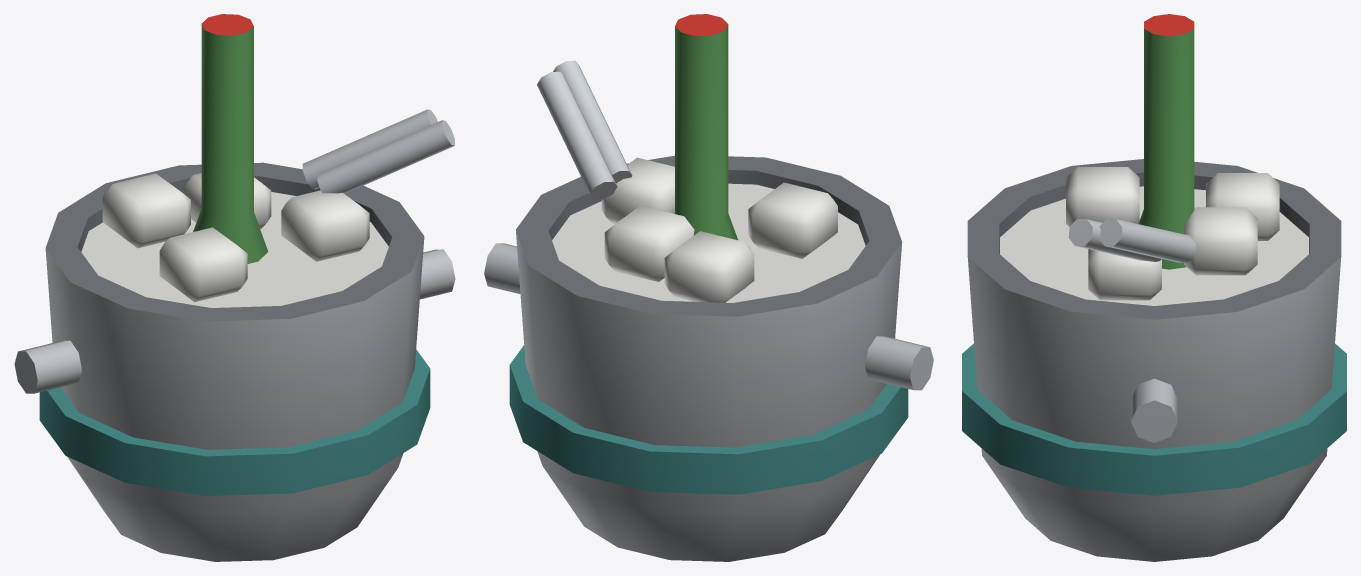
File: SM_IceBucket_01.glb
3 views of the same model, side by side, from view 1: azimuth 30°, elevation 25°; view 2: azimuth 150°, elevation 25°; view 3: azimuth 270°, elevation 25° (orthographic).
Parts seen in each view (by area): view 1: SM_IceBucket_01; view 2: SM_IceBucket_01; view 3: SM_IceBucket_01.
Part boxes in pixels (bbox=[...]): SM_IceBucket_01: bbox=[14, 14, 455, 561]; SM_IceBucket_01: bbox=[484, 14, 933, 561]; SM_IceBucket_01: bbox=[962, 14, 1346, 561].
Bounding box in the file's own units: 0.33 × 0.36 × 0.2613.
Materials: 1 (1 with a texture image).
